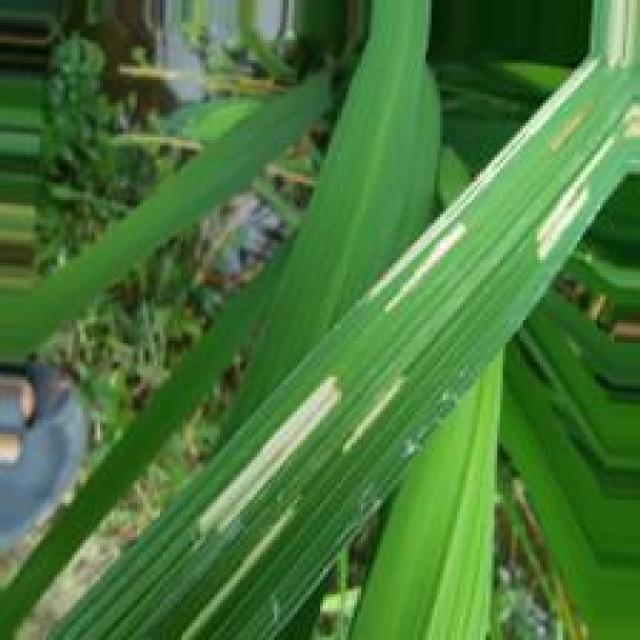Rice_Hispa: (363, 58, 598, 309), (196, 373, 346, 532), (174, 501, 301, 640), (538, 132, 609, 257), (381, 220, 473, 316), (340, 376, 409, 457), (602, 0, 630, 66)
